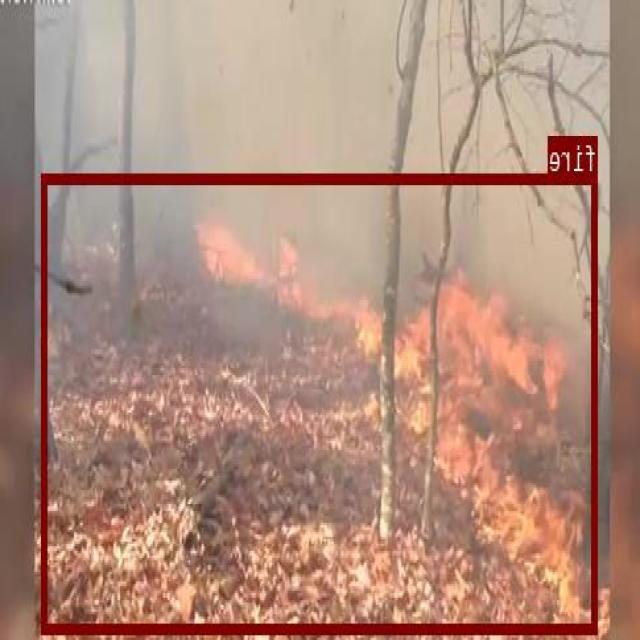fire: (43, 173, 599, 633)
